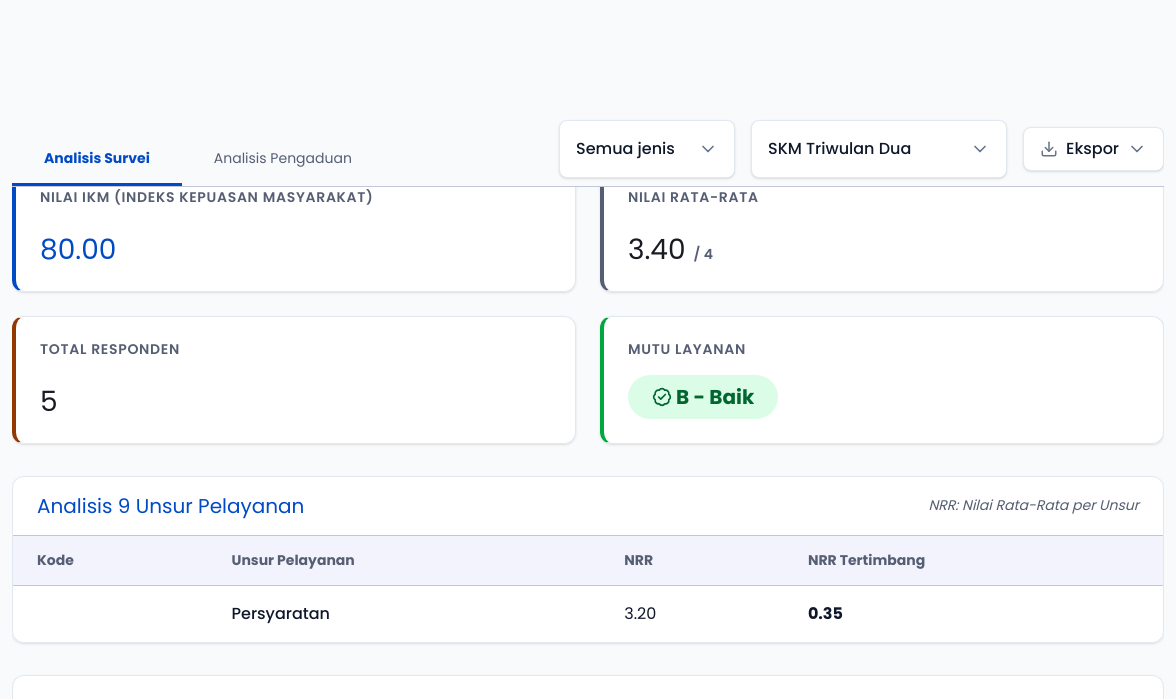
Test: Statistik Admin OPD — penyaring jenis survei › memilih Custom: hasil beralih ke survei custom dan menampilkan kartu Nilai Survei
Click the button named "jenis survei": (647, 149) [559,120,735,178]
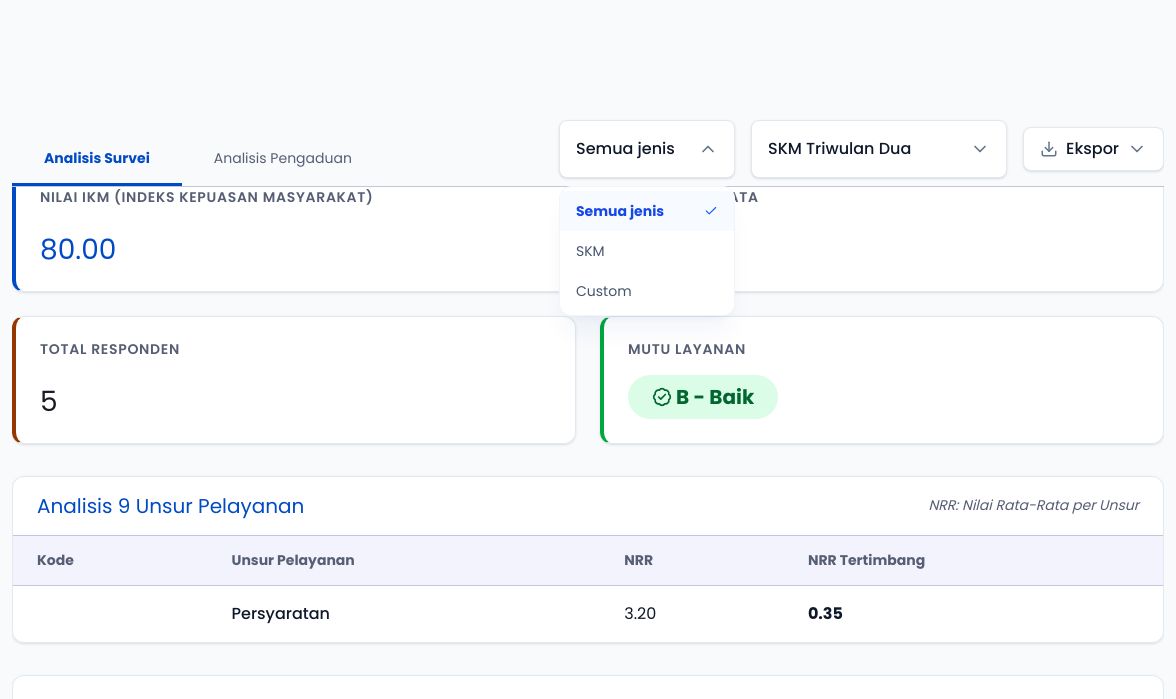
Click the button "Custom": (647, 291) [560,271,734,311]
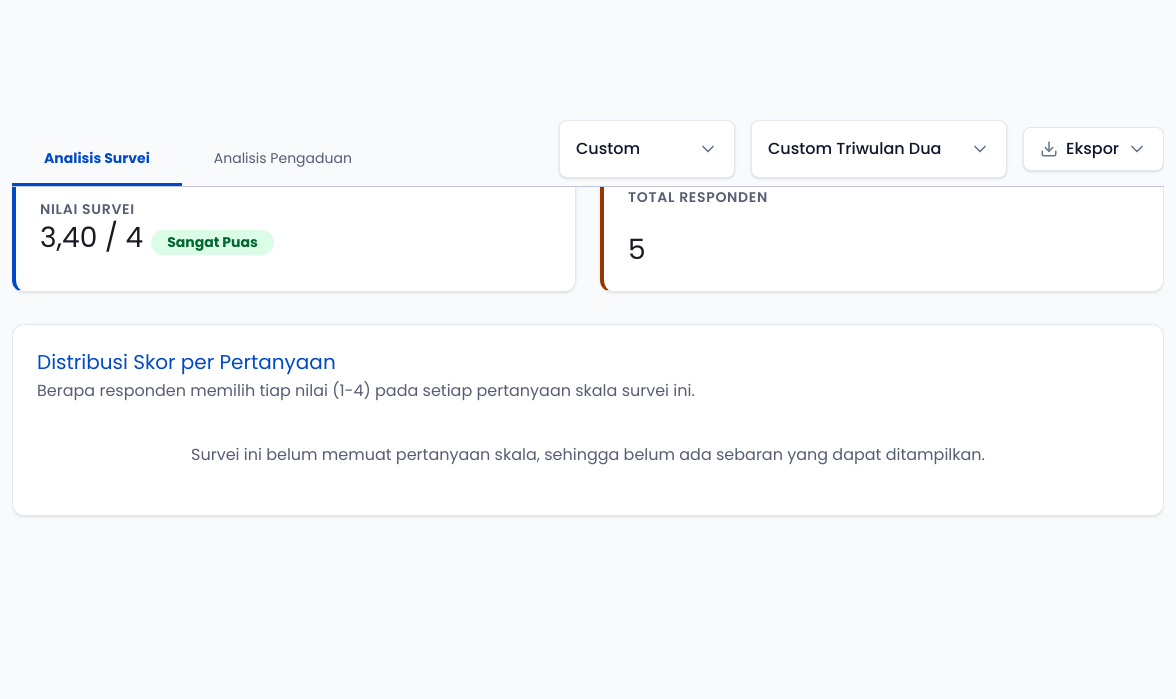
expect the text "3,40 / 4" is shown: met, box [40,221,143,255]
expect the text "Nilai IKM" is gone: met
